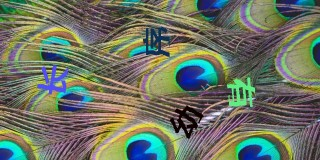幼: (170, 105, 204, 140)
序: (141, 24, 171, 59)
有: (226, 75, 257, 110)
长: (36, 64, 69, 95)
